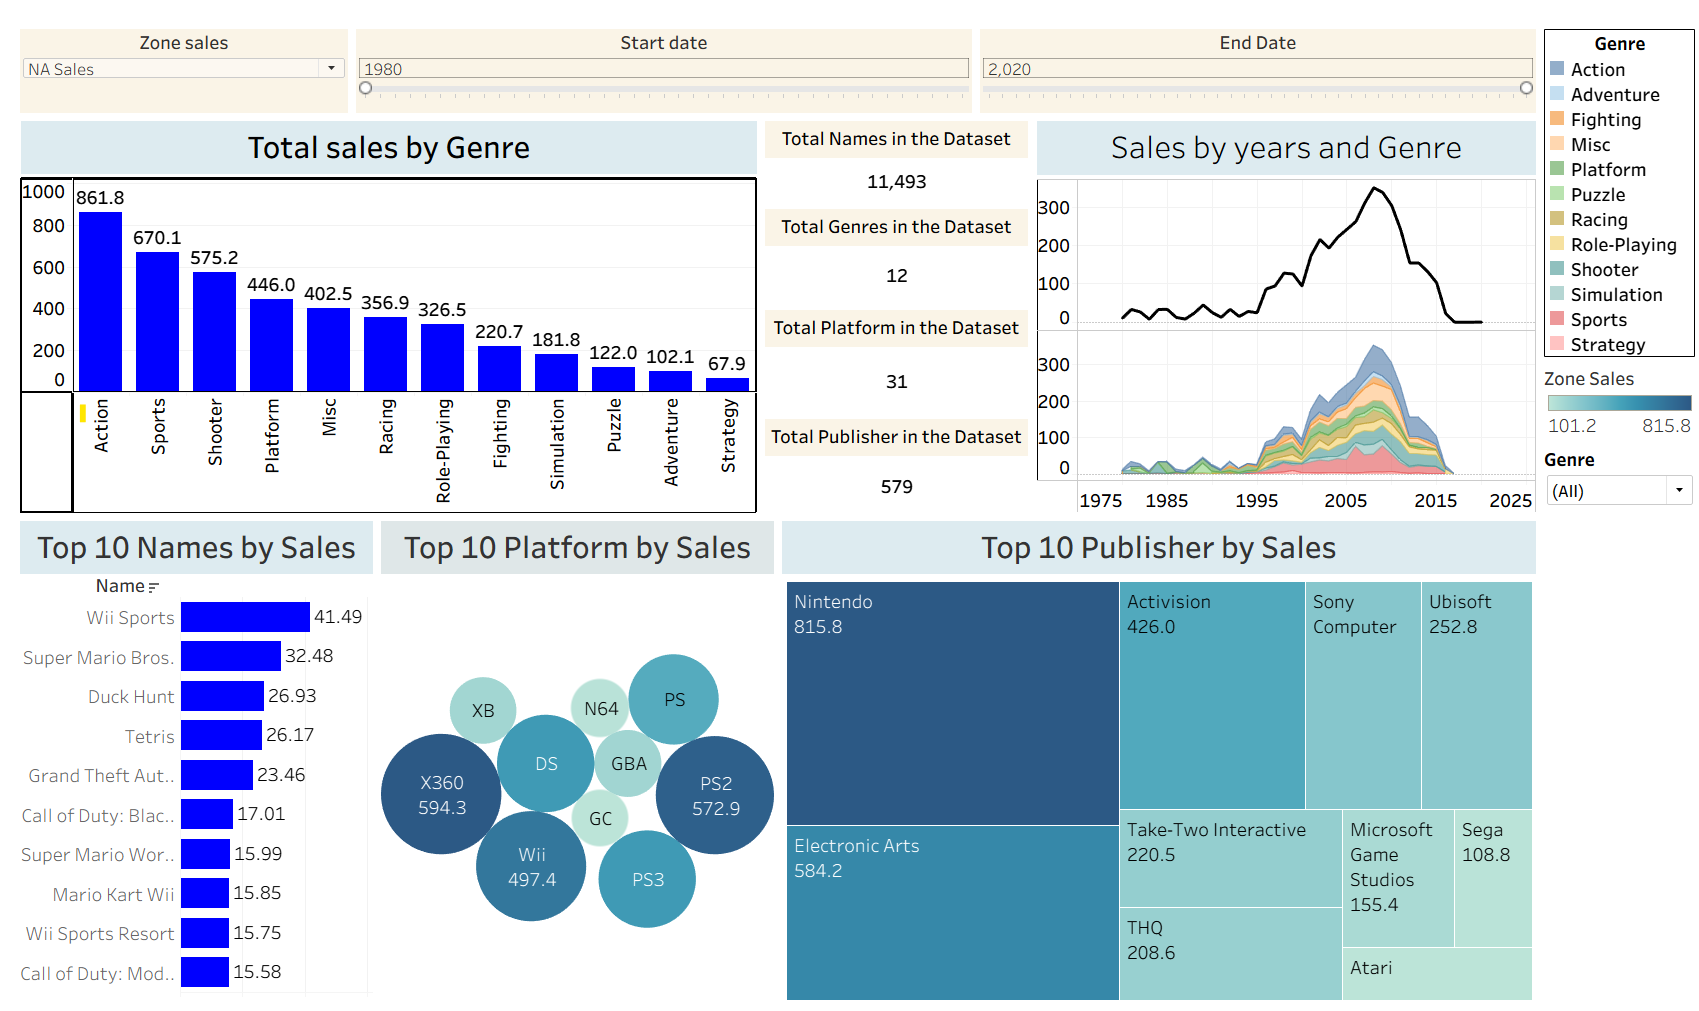

The dashboard page shown, as its layout file describes it:
{"tool":"tableau","page":{"name":"VG Sales Dashboard","canvas":[1700,1000],"ordinal":0},"visuals":[{"type":"parameter","param":"[Parameters].[Parameter 1]","box":[8,8,336,92]},{"type":"parameter","param":"[Parameters].[Parameter 2]","box":[344,8,624,92]},{"type":"parameter","param":"[Parameters].[Parameter 3]","box":[968,8,564,92]},{"type":"legend","title":"Sales by years and Genre","param":"[federated.15ax3560bp96rj13ixq5d0s9snaz].[none:Genre:nk]","box":[1532,8,160,336]},{"type":"worksheet","title":"Total sales by Genre","mark":"Automatic","rows":["Calculation_1345168948655996928"],"cols":["Genre"],"box":[8,100,745,400]},{"type":"worksheet","title":"Total Names in the Dataset","mark":"Automatic","box":[753,100,271,88]},{"type":"worksheet","title":"Sales by years and Genre","mark":"Automatic","rows":["Calculation_1345168948655996928","Calculation_1345168948655996928"],"cols":["Year"],"box":[1024,100,508,400]},{"type":"worksheet","title":"Total Genres in the Dataset","mark":"Automatic","box":[753,188,271,101]},{"type":"worksheet","title":"Total Platform in the Dataset","mark":"Automatic","box":[753,289,271,109]},{"type":"legend","title":"Top 10 Publisher by Sales","param":"[federated.15ax3560bp96rj13ixq5d0s9snaz].[sum:Calculation_1345168948655996928:qk","box":[1532,344,160,81]},{"type":"worksheet","title":"Total Publisher in the Dataset","mark":"Automatic","box":[753,398,271,102]},{"type":"filter","title":"Sales by years and Genre","param":"[federated.15ax3560bp96rj13ixq5d0s9snaz].[none:Genre:nk]","box":[1532,425,160,70]},{"type":"worksheet","title":"Top 10 Names by Sales","mark":"Automatic","rows":["Name"],"cols":["Calculation_1345168948655996928"],"box":[8,500,361,492]},{"type":"worksheet","title":"Top 10 Platform by Sales","mark":"Circle","box":[369,500,401,492]},{"type":"worksheet","title":"Top 10 Publisher by Sales","mark":"Automatic","box":[770,500,762,492]}]}

Visuals, with their boxes in screenshot pixels (x1, y1, x2, y2), scaled from the page's 1700x1000 canvas onto the 1699x1011 screenshot:
parameter: bbox=[8, 8, 344, 101]
parameter: bbox=[344, 8, 967, 101]
parameter: bbox=[967, 8, 1531, 101]
"Sales by years and Genre" legend: bbox=[1531, 8, 1691, 348]
"Total sales by Genre" worksheet: bbox=[8, 101, 753, 505]
"Total Names in the Dataset" worksheet: bbox=[753, 101, 1023, 190]
"Sales by years and Genre" worksheet: bbox=[1023, 101, 1531, 505]
"Total Genres in the Dataset" worksheet: bbox=[753, 190, 1023, 292]
"Total Platform in the Dataset" worksheet: bbox=[753, 292, 1023, 402]
"Top 10 Publisher by Sales" legend: bbox=[1531, 348, 1691, 430]
"Total Publisher in the Dataset" worksheet: bbox=[753, 402, 1023, 505]
"Sales by years and Genre" filter: bbox=[1531, 430, 1691, 500]
"Top 10 Names by Sales" worksheet: bbox=[8, 505, 369, 1003]
"Top 10 Platform by Sales" worksheet (Circle marks): bbox=[369, 505, 770, 1003]
"Top 10 Publisher by Sales" worksheet: bbox=[770, 505, 1531, 1003]
